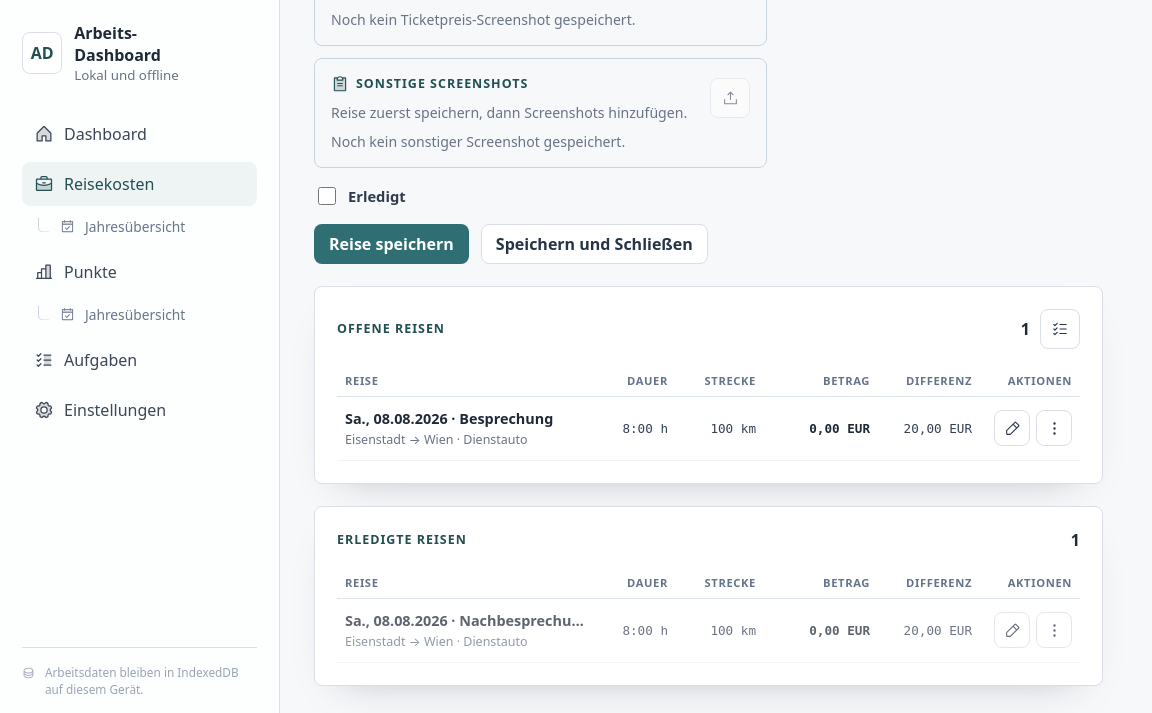
travel expense view › shows the trip form state in the page title
(page scrolled)
What coordinates should you click on to do the following:
click the button named "Bearbeiten" in the row of "Sa., 08.08.2026 · Besprechung"
I would click on:
 (1012, 428)
Its box is x1=994 y1=410 x2=1030 y2=446.
(page scrolled)
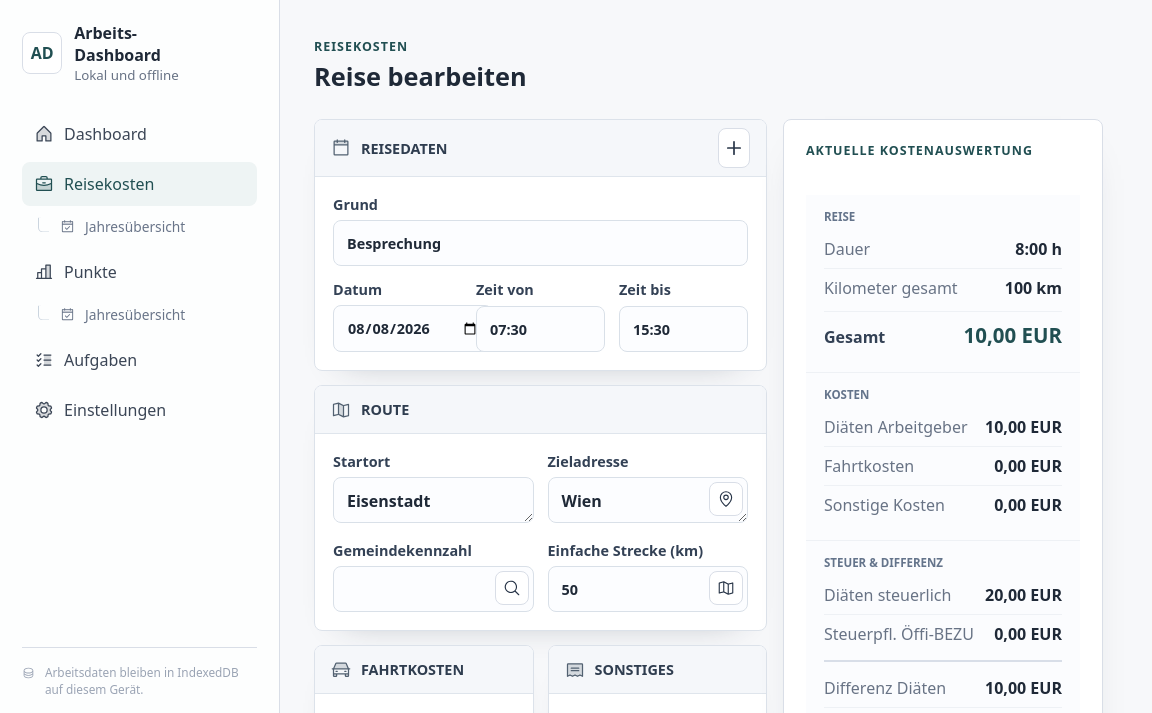
Check: the heading "Reise bearbeiten" is shown, box x1=314 y1=59 x2=527 y2=93
What coordinates should you click on to do the following:
click the button named "Neue Reise"
I would click on:
 (734, 148)
Its box is x1=718 y1=128 x2=750 y2=168.
(page scrolled)
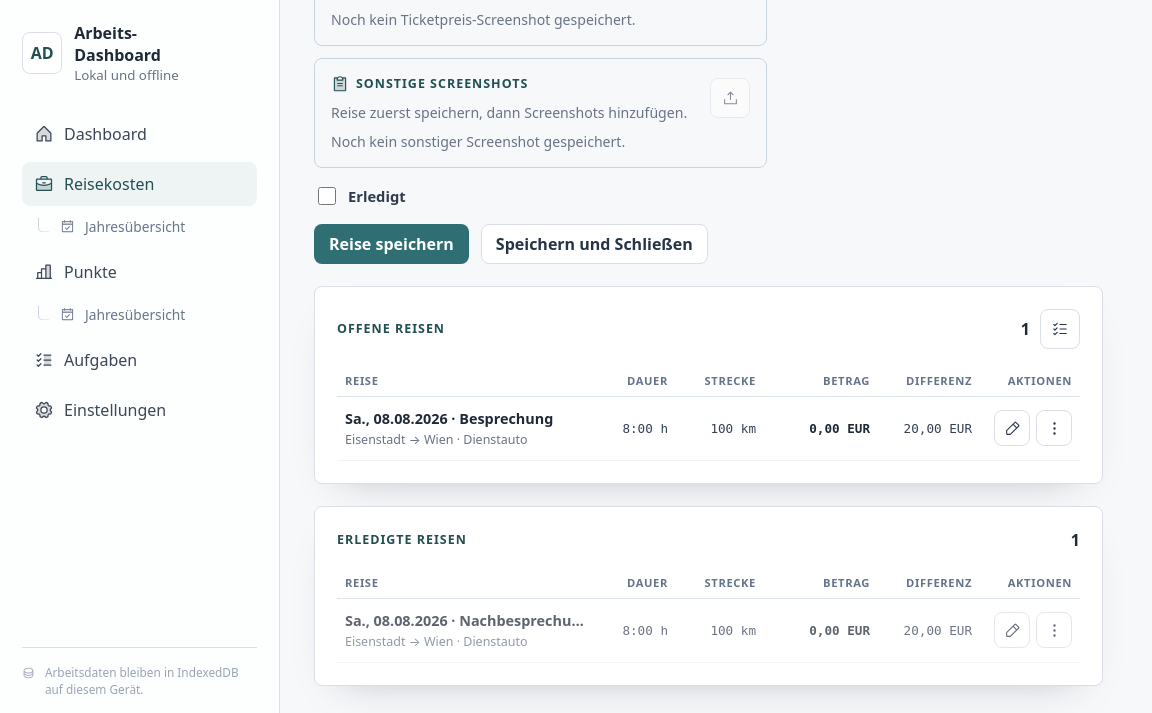
What coordinates should you click on to do the following:
click the button named "Bearbeiten" in the row of "Sa., 08.08.2026 · Besprechung"
I would click on:
 (1012, 428)
Its box is x1=994 y1=410 x2=1030 y2=446.
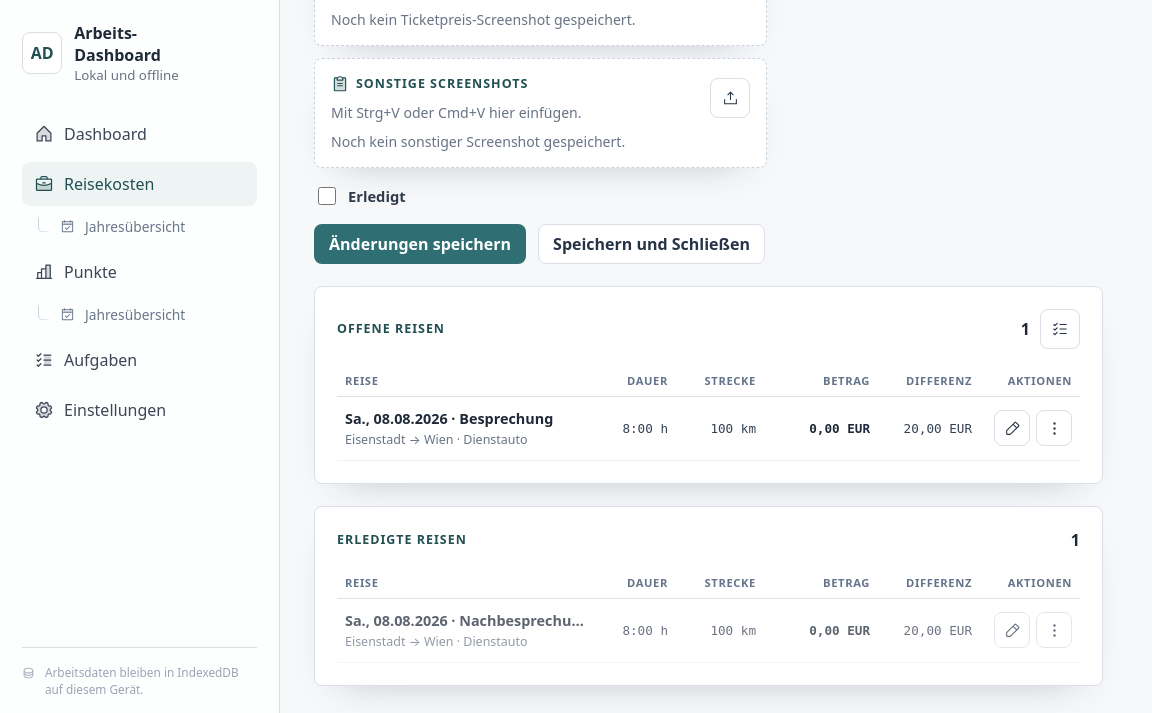
What coordinates should you click on to do the following:
click the button "Speichern und Schließen"
I would click on:
 (652, 244)
Its box is x1=538 y1=224 x2=765 y2=264.
(page scrolled)
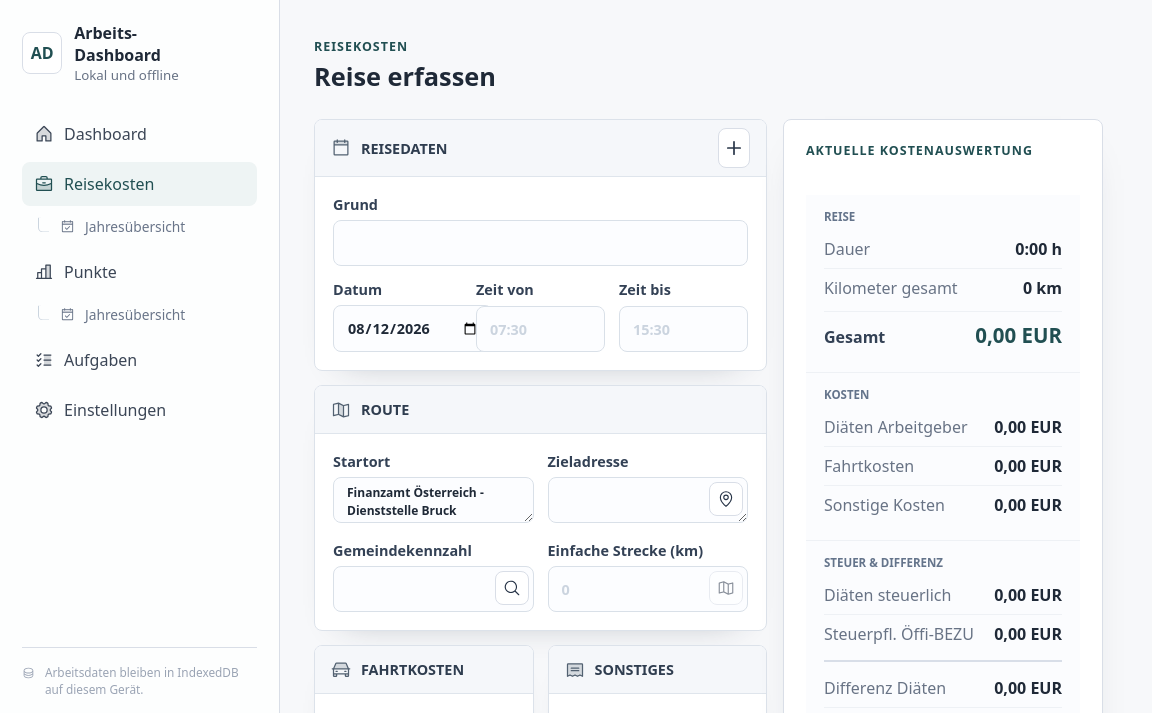
Check: the heading "Reise erfassen" is shown, box x1=314 y1=59 x2=496 y2=93
